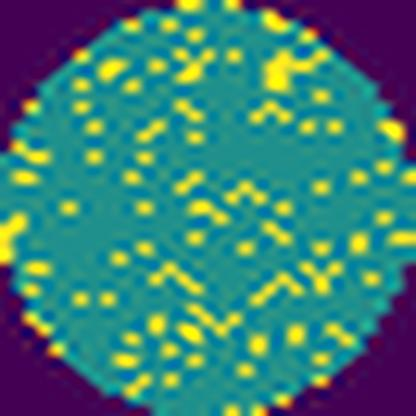Loc: (264, 47, 328, 91)
